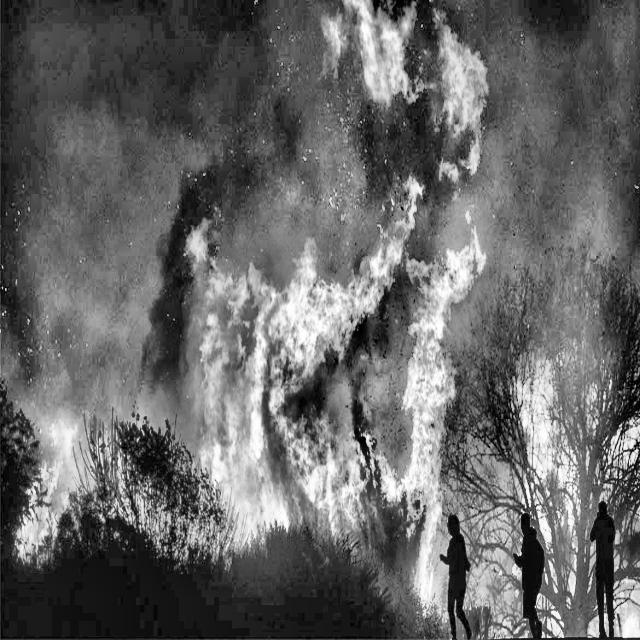fire: (175, 81, 479, 625), (19, 374, 72, 605)
